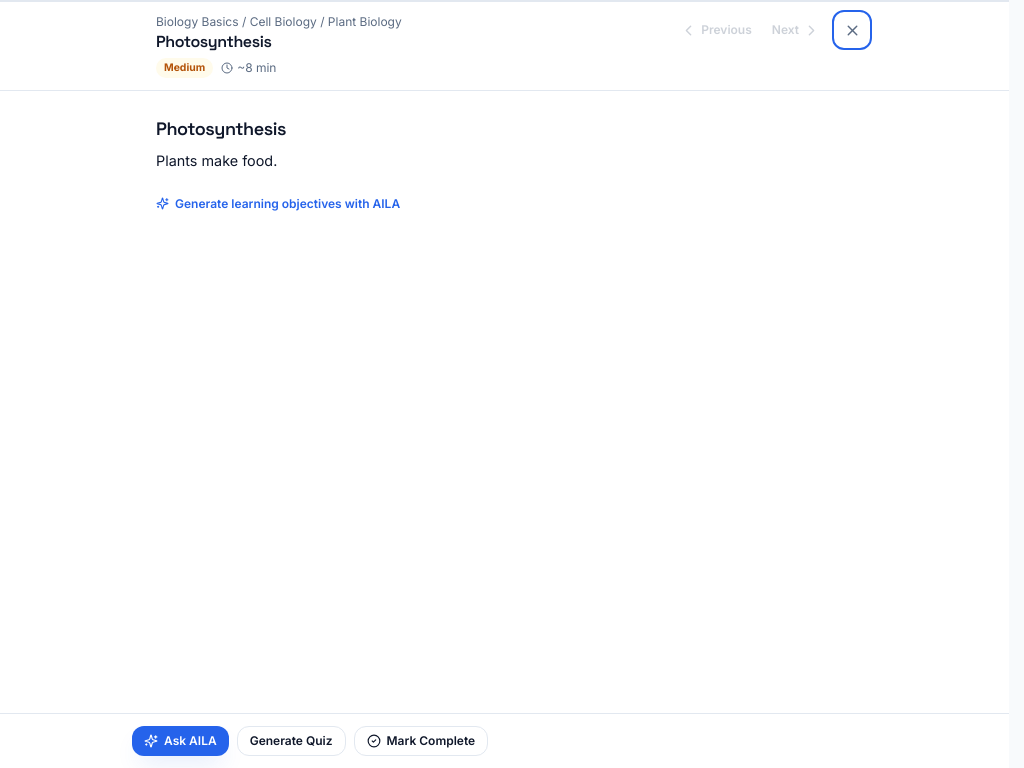
Test case: LessonReader › Ask AILA, Generate Quiz, and Mark Complete behave exactly as before
Expected: the text "Plants make food." is shown, x1=156 y1=152 x2=277 y2=169
Click the button "Ask AILA" at (180, 741), box x1=132 y1=726 x2=229 y2=756
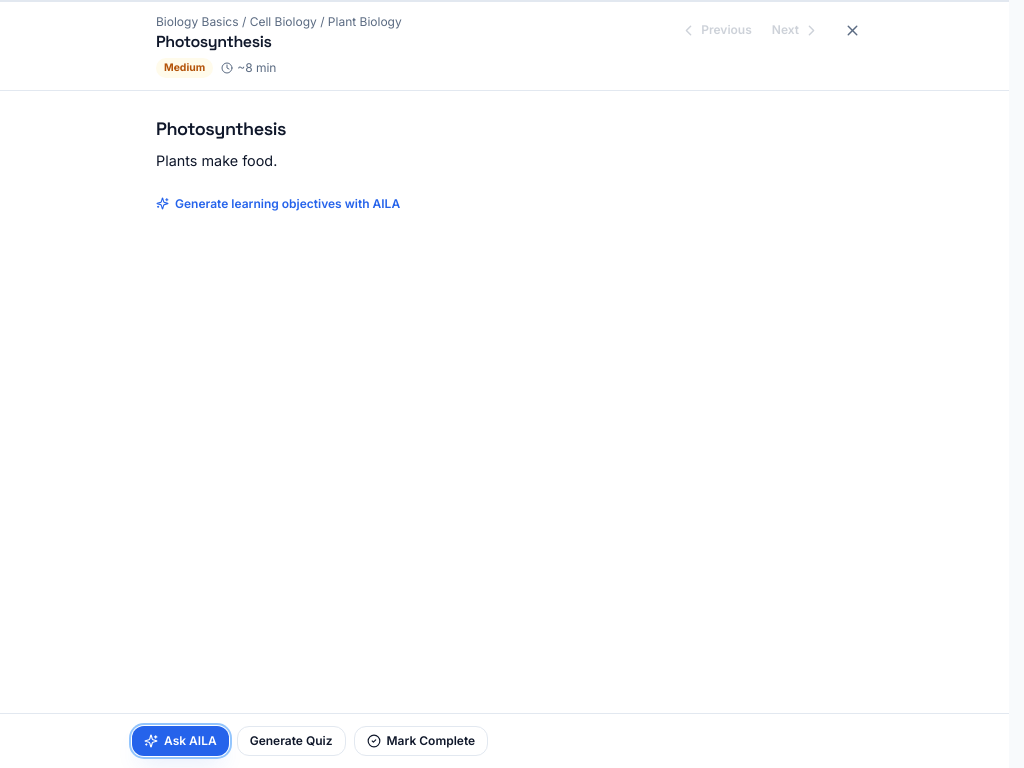
Click the button "Generate Quiz" at (291, 741), box x1=237 y1=726 x2=346 y2=756
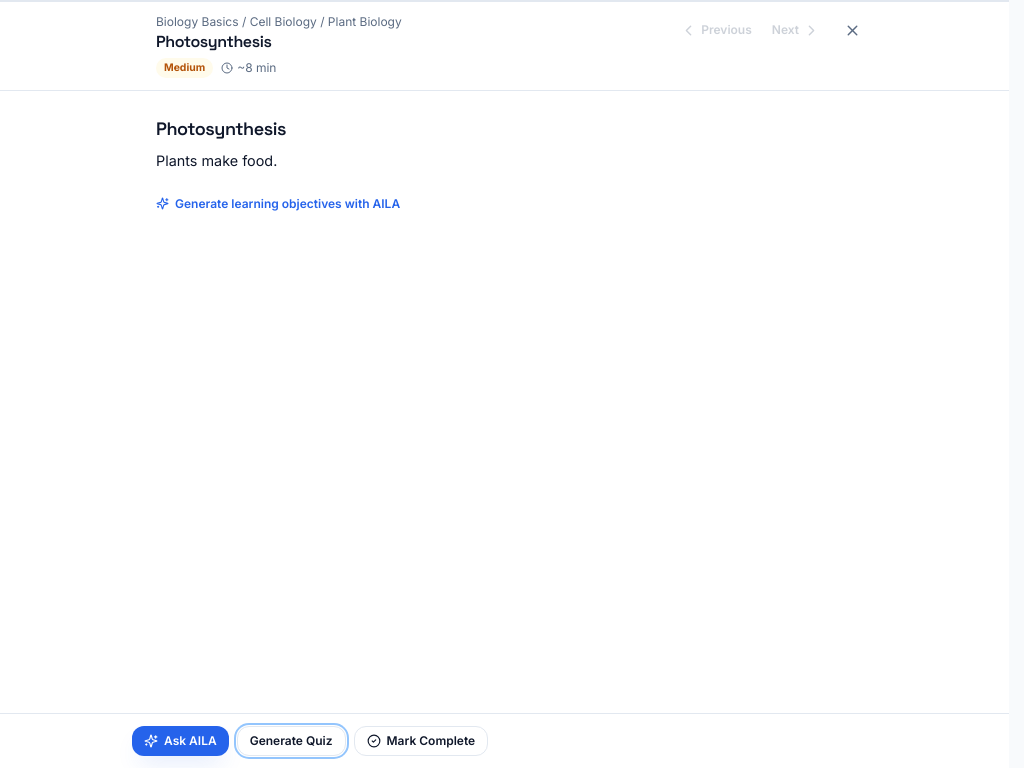
Click the button "Mark Complete" at (421, 741), box x1=354 y1=726 x2=488 y2=756
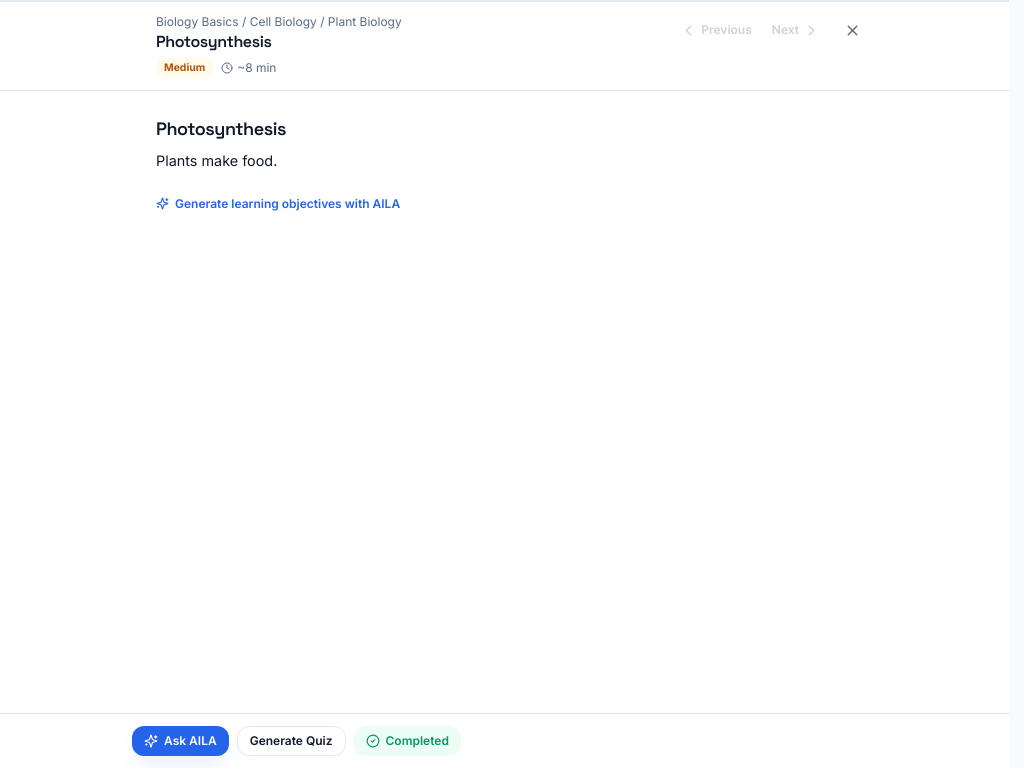
Expected: the button "Completed" is disabled, x1=354 y1=726 x2=461 y2=756
